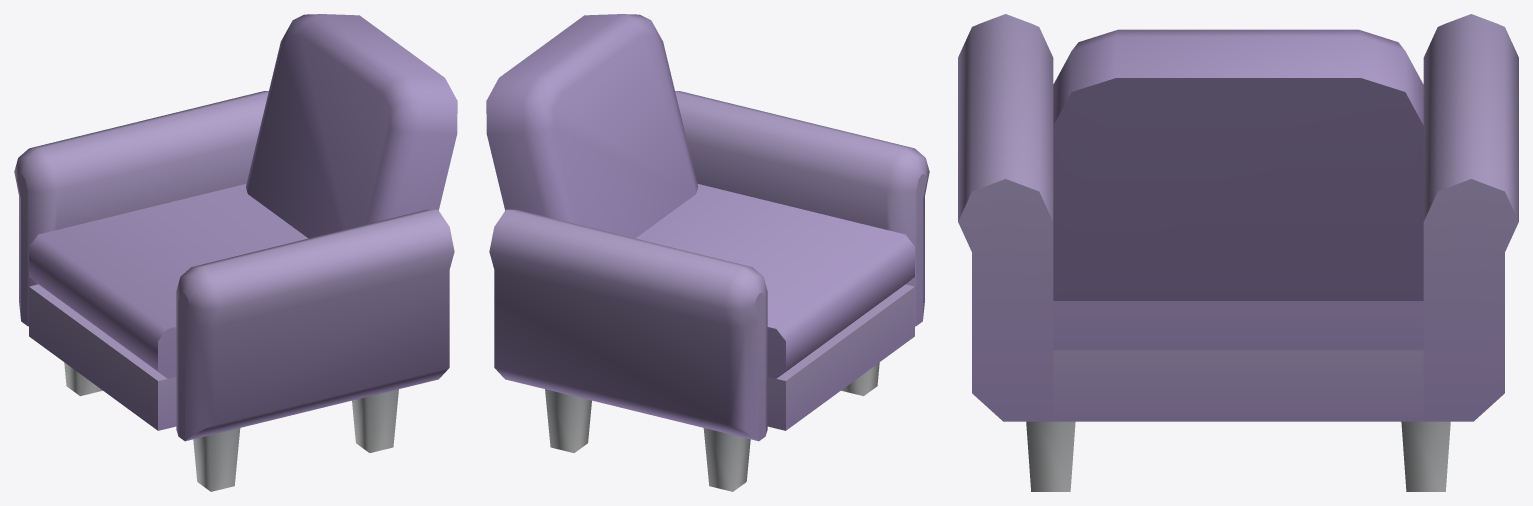
The model's file is stockholm-chair-headrest-high.glb.
The picture shows the model from 3 angles, left to right: view 1: azimuth 30°, elevation 25°; view 2: azimuth 150°, elevation 25°; view 3: azimuth 270°, elevation 25°; orthographic projection. The views are drawn at different scales.
Visible parts, largest first — view 1: stockholm-chair-headrest-high; view 2: stockholm-chair-headrest-high; view 3: stockholm-chair-headrest-high.
Part boxes in pixels (left/top/right/bottom): stockholm-chair-headrest-high: left=14, top=14, right=457, bottom=491; stockholm-chair-headrest-high: left=486, top=14, right=929, bottom=491; stockholm-chair-headrest-high: left=958, top=14, right=1518, bottom=491.
Size of the model in its own units: 0.8174 by 0.8563 by 0.896.
